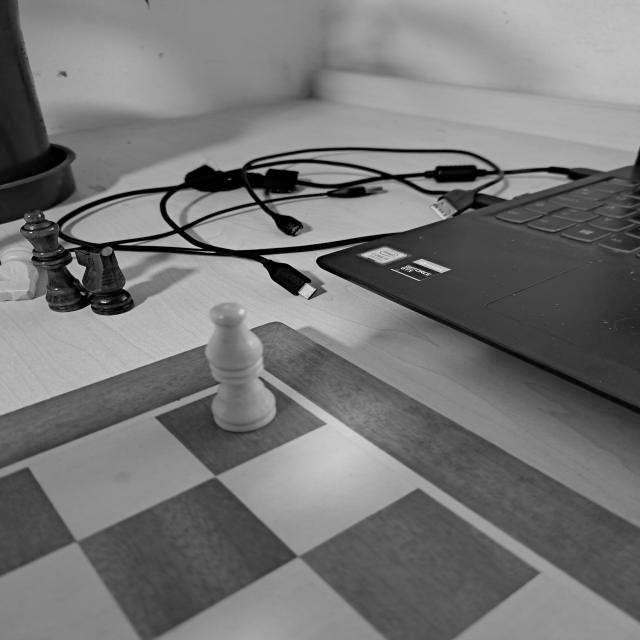chess-table-corners: (204, 353, 314, 402)
